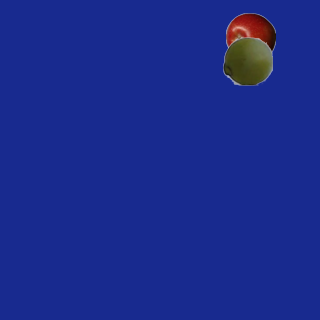Apple Braeburn: (225, 12, 275, 62)
Grape White 4: (222, 35, 272, 85)
